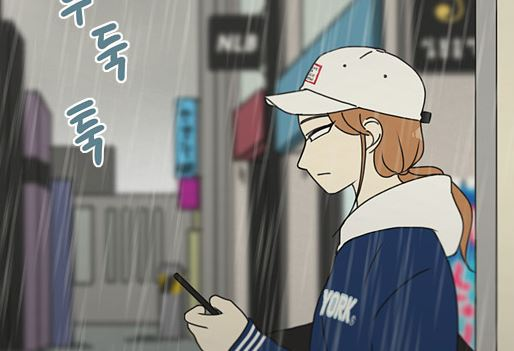hat: (265, 46, 434, 124)
